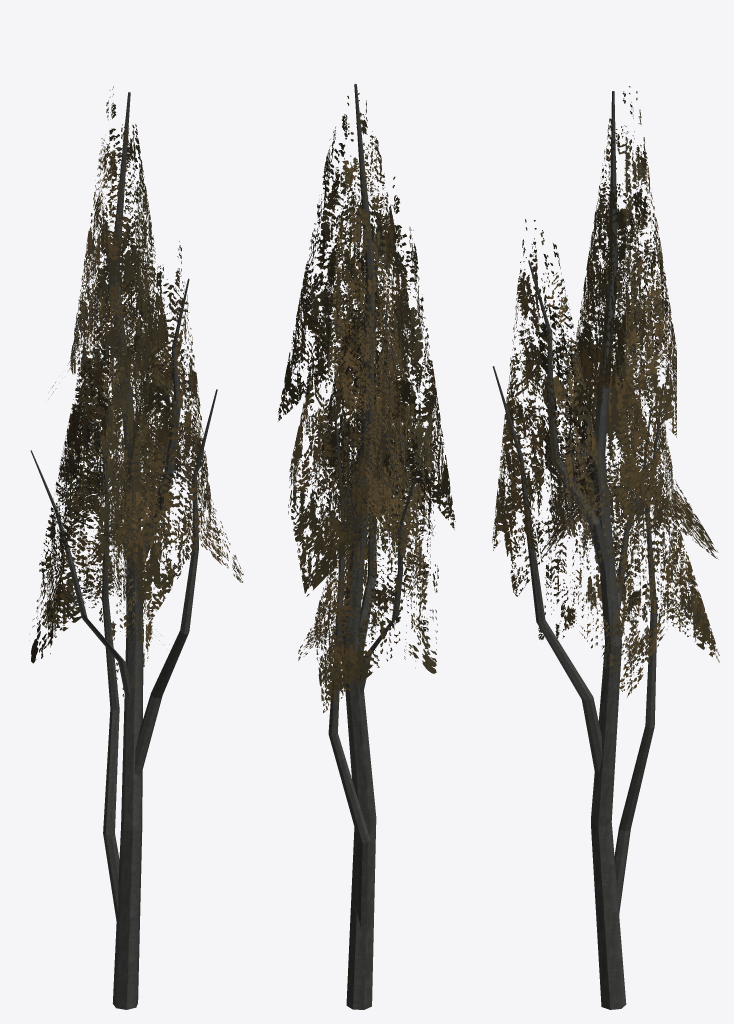
The model's file is Tree_thin04.fbx.
3 renders of one model, left to right at view 1: azimuth 30°, elevation 25°; view 2: azimuth 150°, elevation 25°; view 3: azimuth 270°, elevation 25°, orthographic.
Parts seen in each view (by area): view 1: Tree_thin04; view 2: Tree_thin04; view 3: Tree_thin04.
Part boxes in pixels (<box>): Tree_thin04: <box>29,86,243,1009</box>; Tree_thin04: <box>278,83,455,1009</box>; Tree_thin04: <box>492,86,719,1009</box>.
Bounding box in the file's own units: 1.49 × 7.55 × 1.57.
2 materials, 2 textured.
